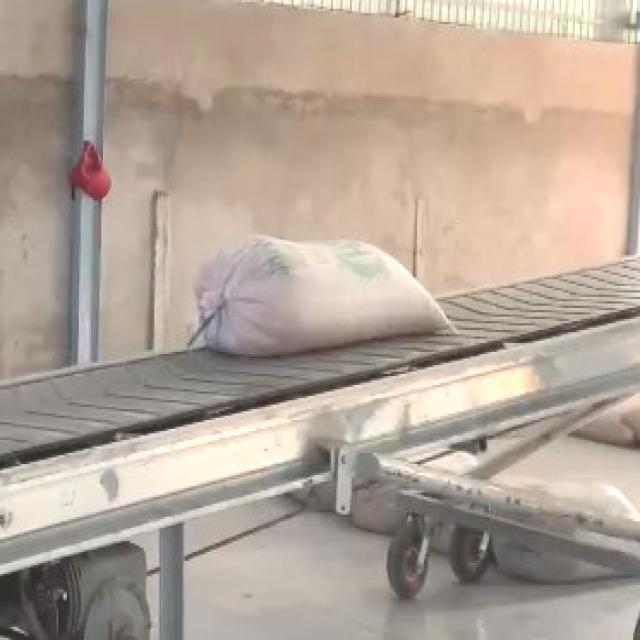gunny_bag: (189, 235, 451, 355)
